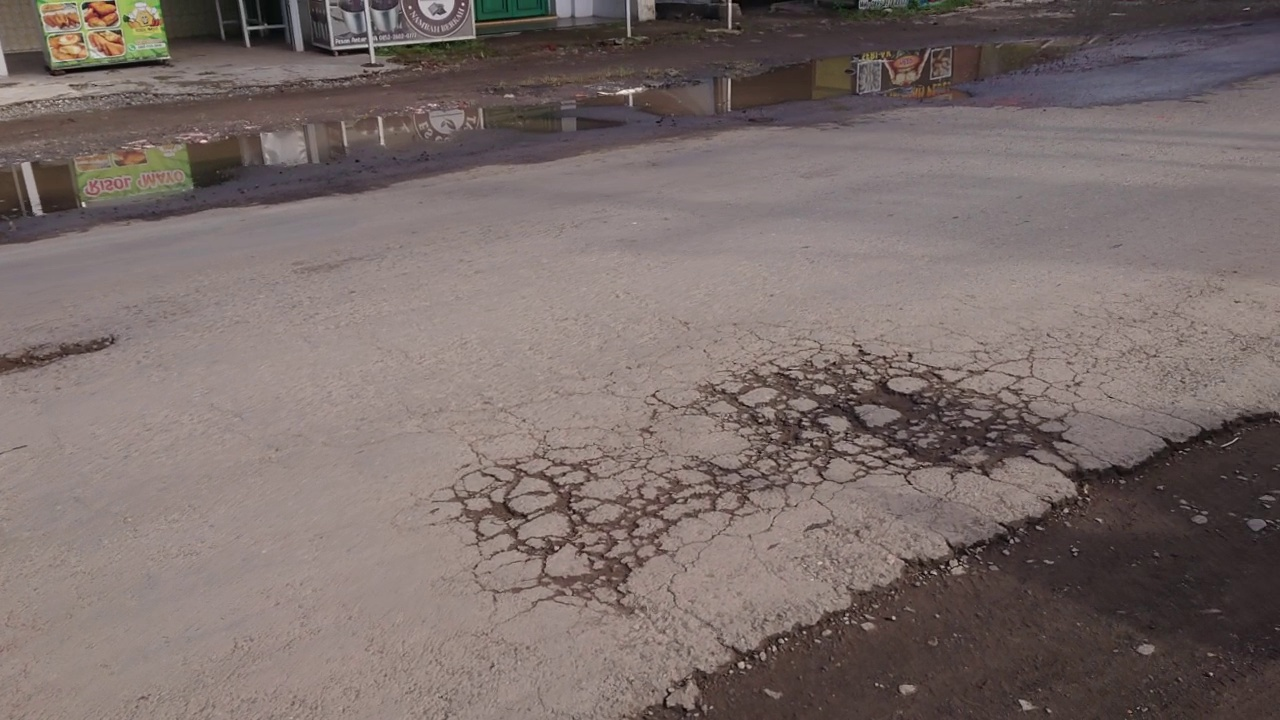Retak: (486, 346, 1042, 608)
